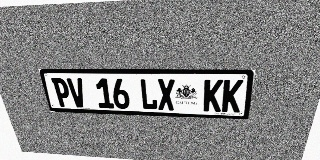1: (94, 78, 114, 108)
6: (111, 78, 130, 109)
K: (221, 79, 244, 113), (203, 79, 224, 112)
L: (139, 79, 158, 110)
P: (51, 78, 73, 107)
V: (66, 78, 87, 108)
X: (157, 79, 175, 110)
